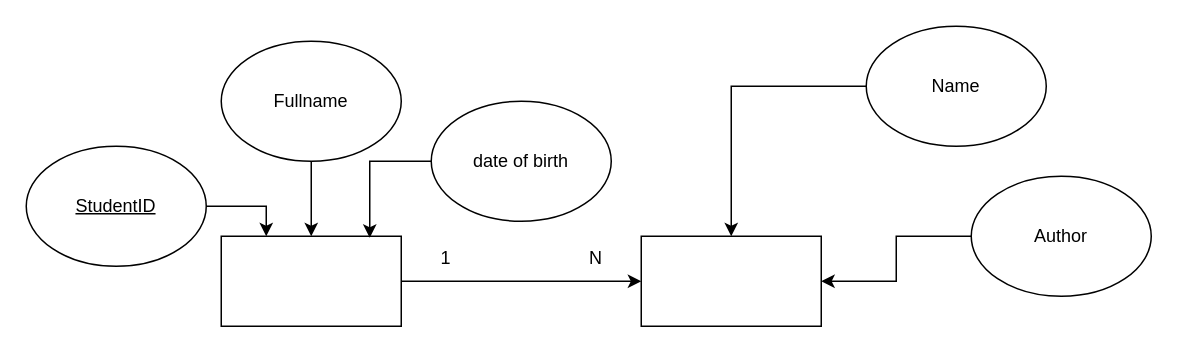
The diagram is 1178 pixels wide and 353 high, and some of its shapes have lost their labels. Here are the shapes that lost their labels. From the top down, the centre of each, then its label:
At (x=310, y=280): "STUDENTS".
At (x=730, y=280): "BOOKS".
